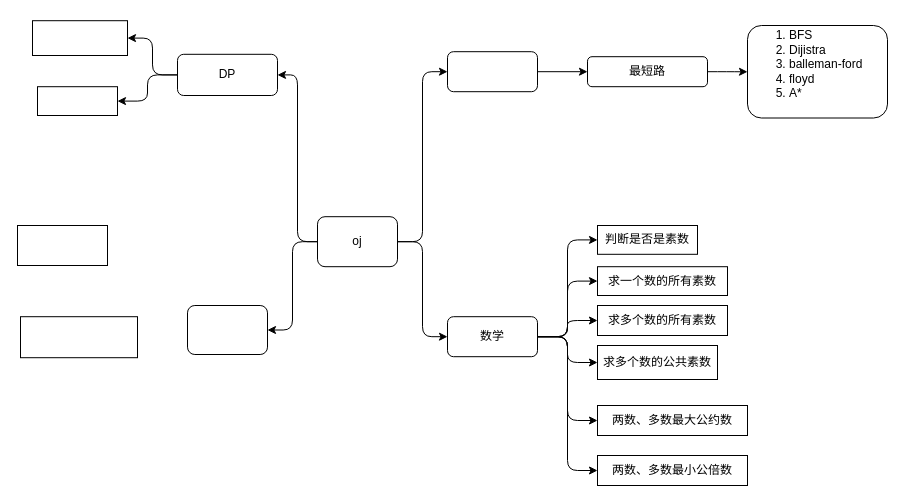
Image size: 905x504. Some labels were removed from this diagram. Here are the shapes that lost their labels. From the top down, the centre of each, then its label:
At [80,38]: "计数DP/2585".
At [492,71]: "graph".
At [77,101]: "背包问题".
At [79,337]: "线段树".
At [227,329]: "区间问题".
